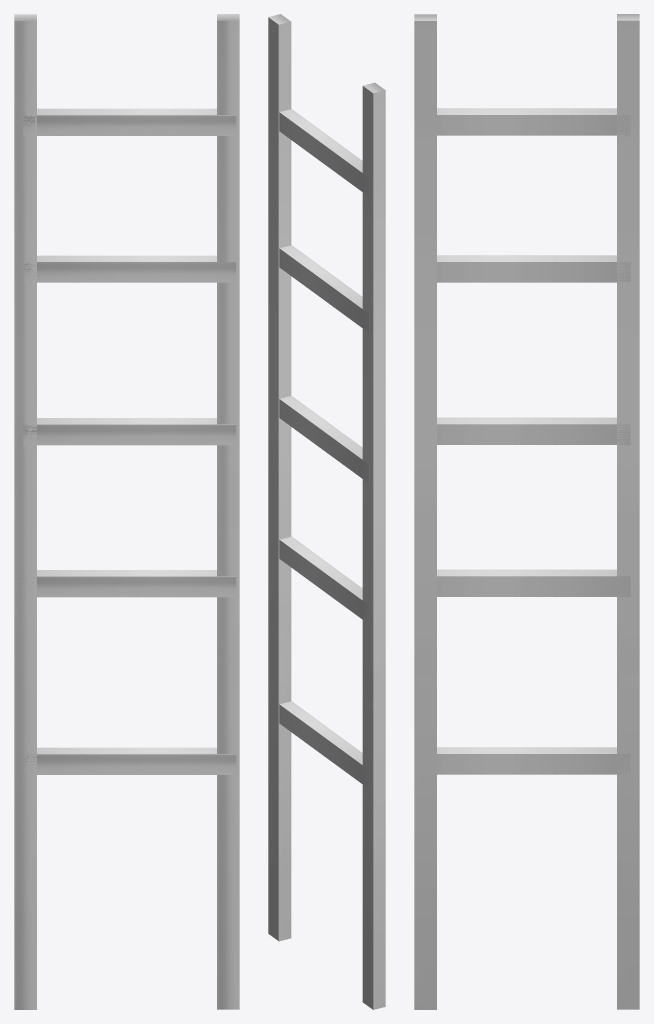
File: Escaleracama.fbx
The picture shows the model from 3 angles, left to right: view 1: azimuth 90°, elevation 25°; view 2: azimuth 210°, elevation 25°; view 3: azimuth 270°, elevation 25°; orthographic projection. The views are drawn at different scales.
Parts seen in each view (by area): view 1: Cube; view 2: Cube; view 3: Cube.
Part boxes in pixels (x1=…): Cube: x1=14, y1=14, x2=239, y2=1009; Cube: x1=268, y1=14, x2=385, y2=1009; Cube: x1=414, y1=14, x2=639, y2=1009.
Bounding box in the file's own units: 20.88 × 1400 × 289.
Materials: 1 (1 with a texture image).
